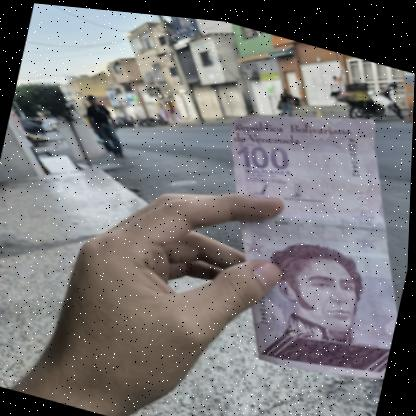one_hundred-front-vef: (185, 73, 414, 388)
